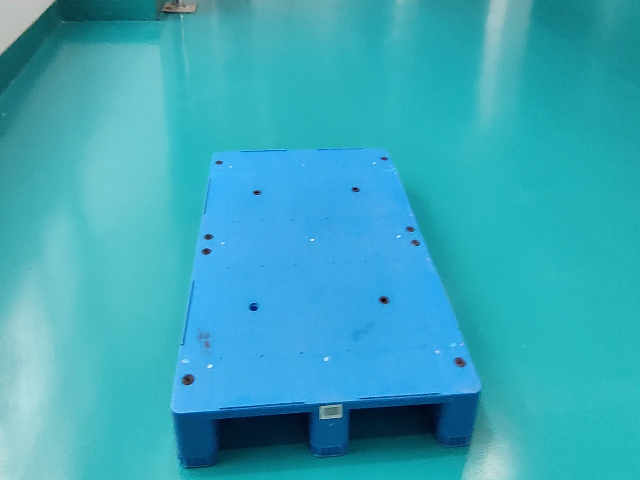block: (171, 412, 217, 465), (438, 390, 481, 445), (312, 403, 349, 458)
front: (171, 390, 479, 468)
hole pallet: (209, 408, 308, 457), (348, 401, 439, 447)
